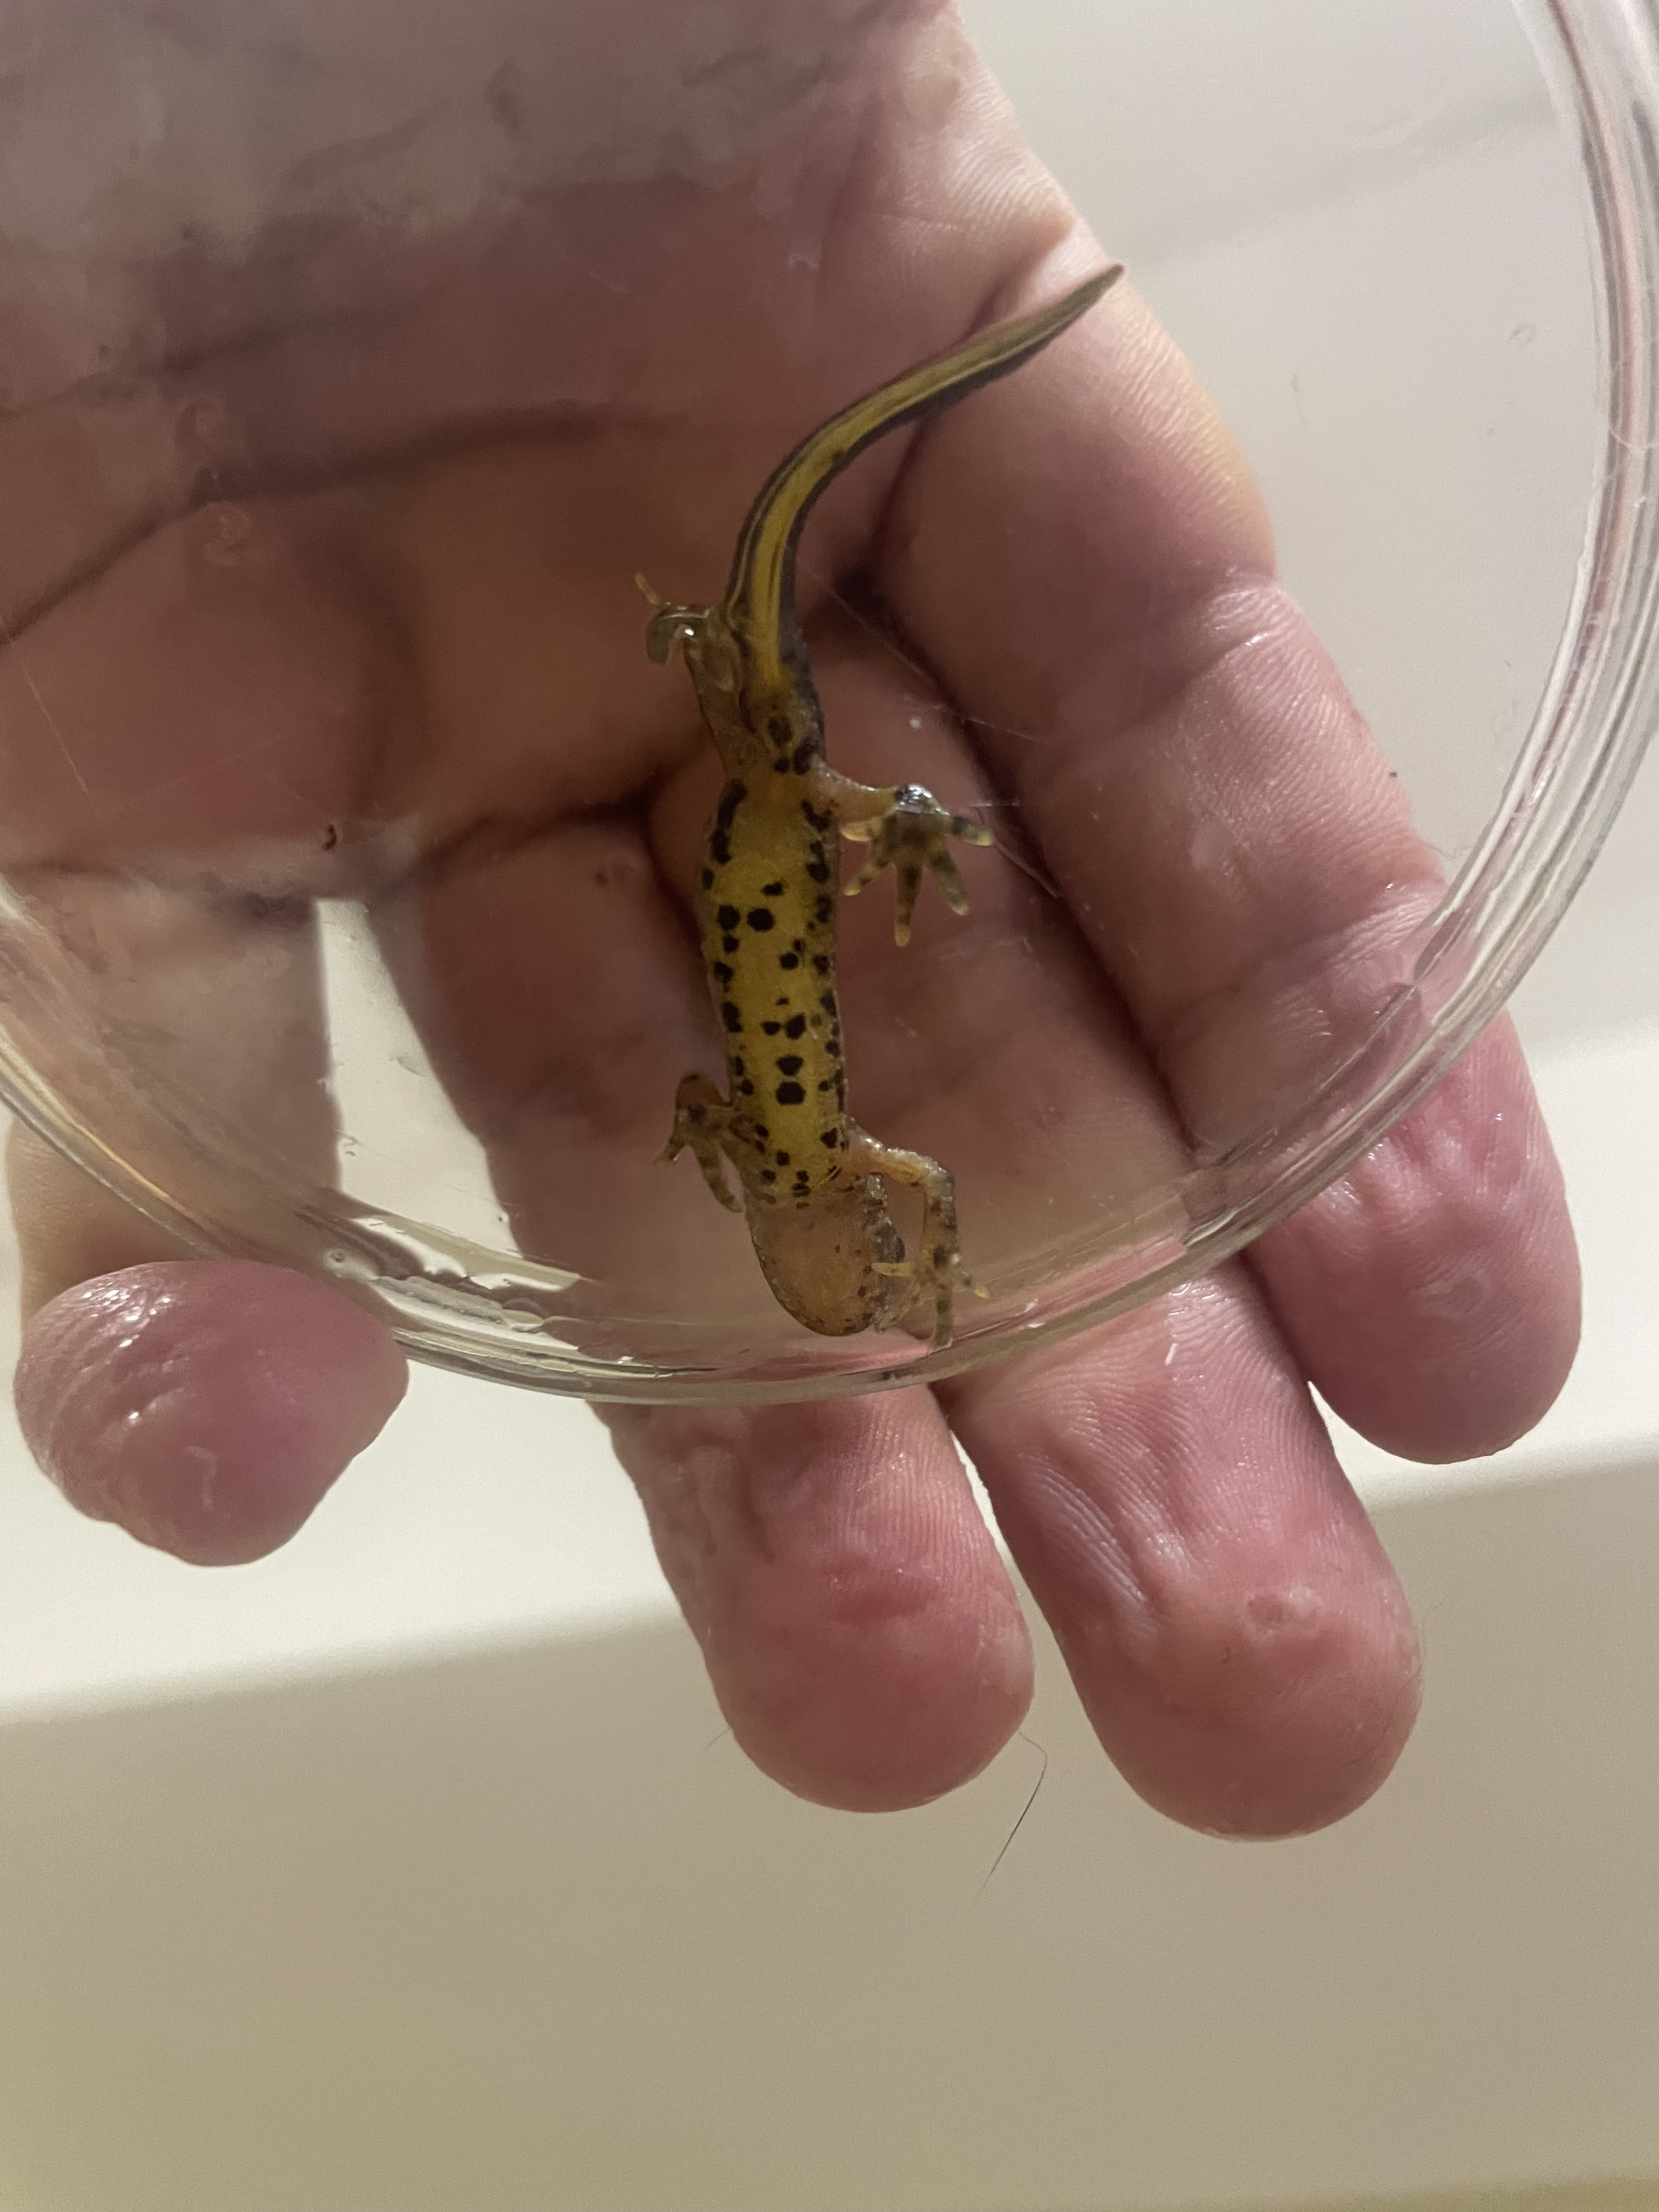Karelin_newt: (695, 777, 849, 1116)
